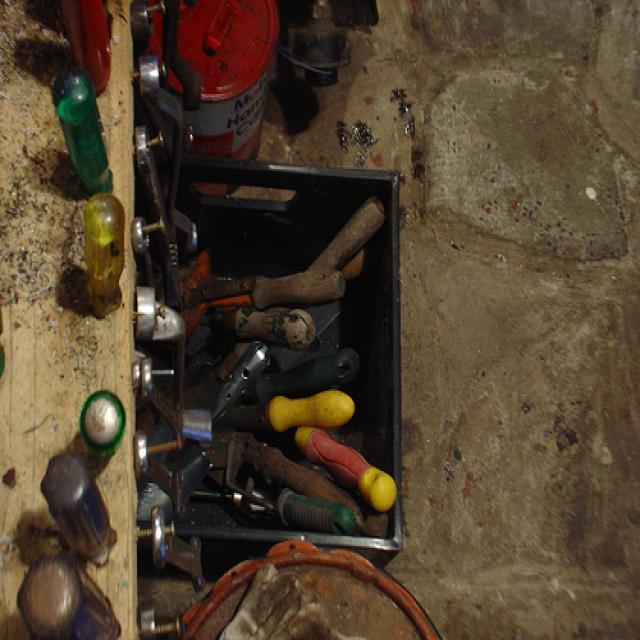screwdriver: (258, 392, 399, 520), (208, 377, 347, 439)
